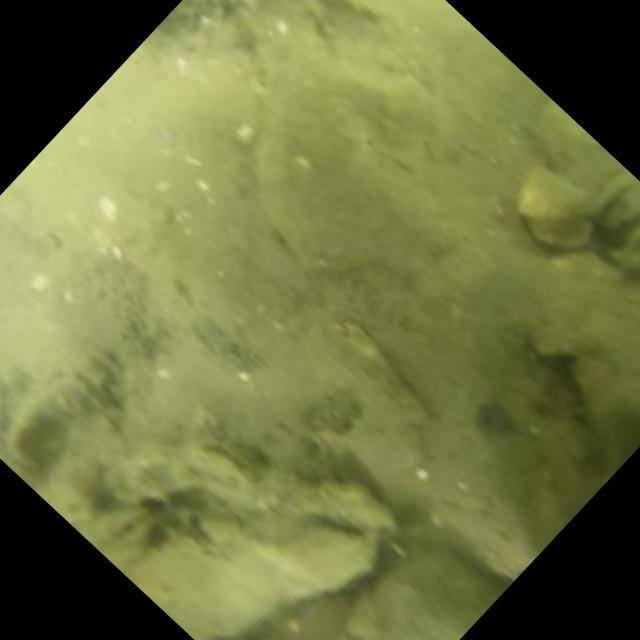Oyster- Indeterminate: (112, 486, 388, 640), (339, 546, 506, 640), (589, 162, 640, 271), (522, 171, 591, 245), (191, 434, 263, 485), (95, 505, 151, 550)
